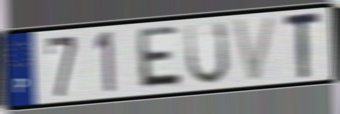1: (93, 29, 119, 96)
7: (45, 34, 79, 99)
E: (137, 24, 185, 91)
T: (283, 9, 324, 82)
U: (184, 19, 231, 87)
V: (230, 14, 280, 85)
